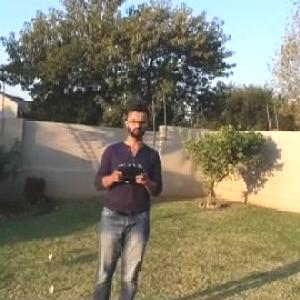follow: (90, 90, 169, 299)
